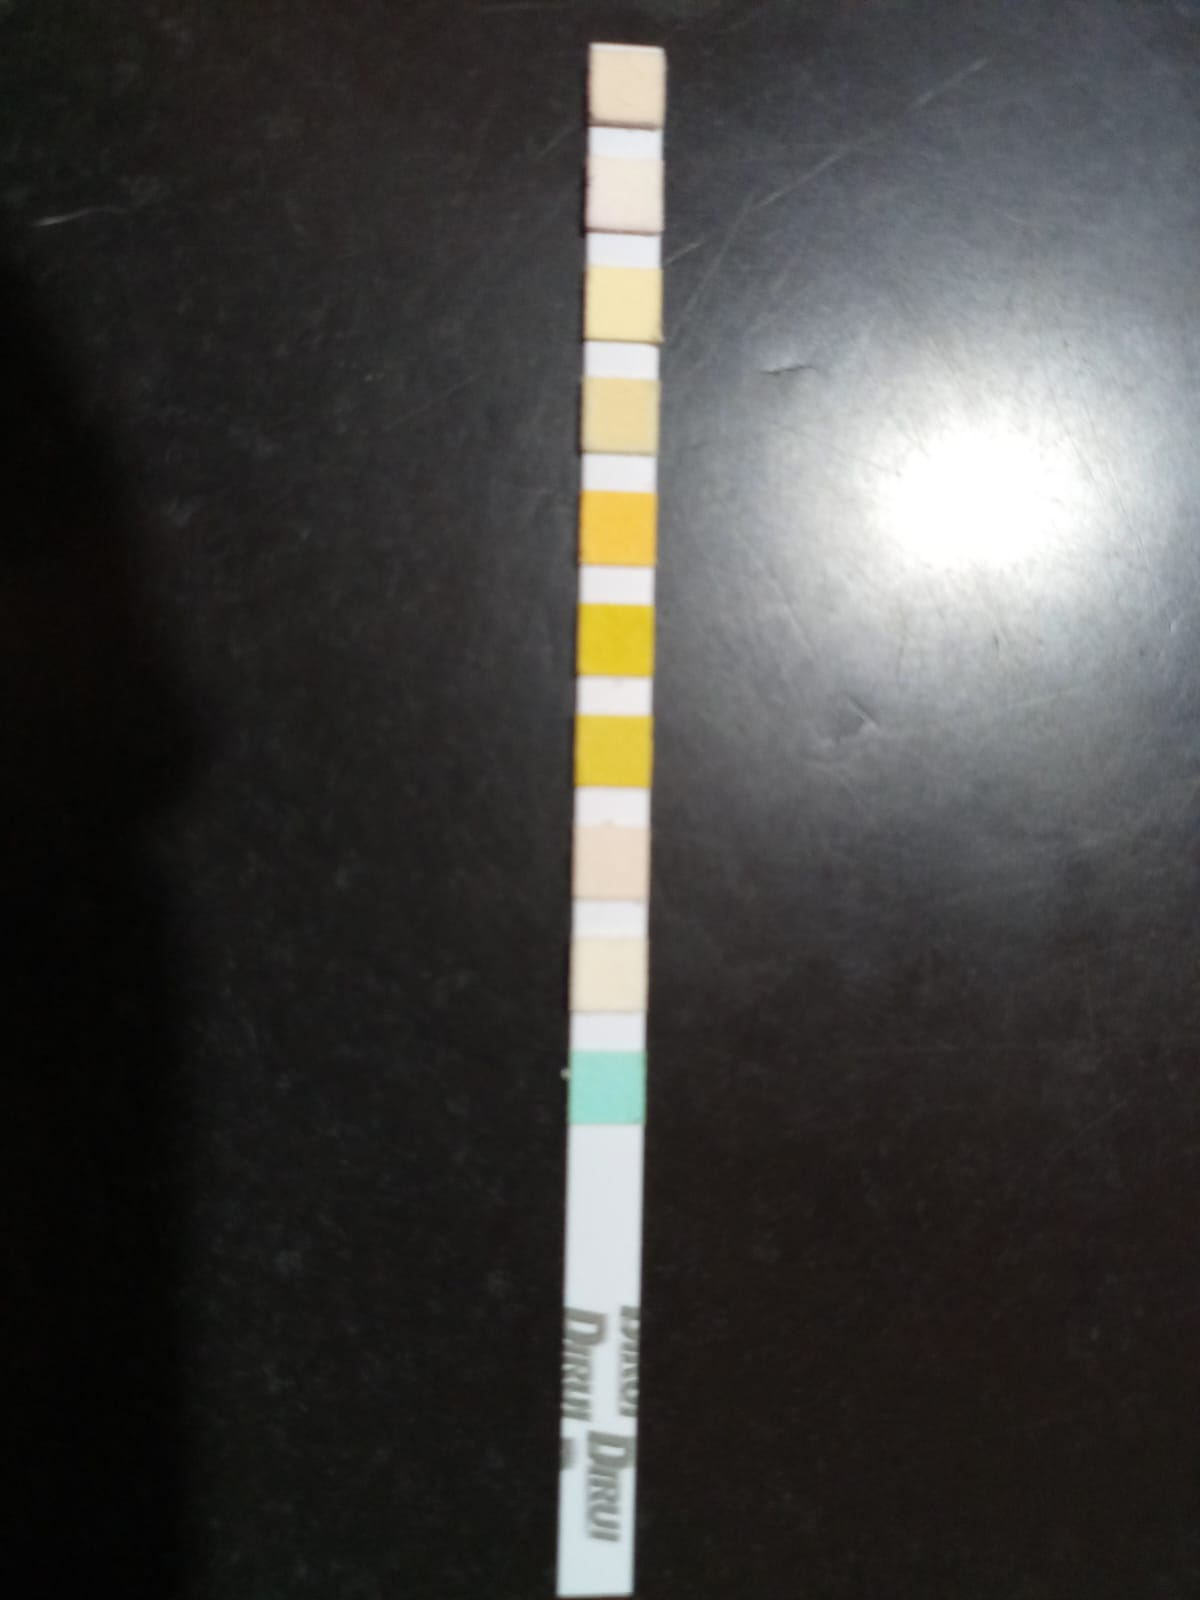color 1: (592, 50, 659, 116)
color 10: (571, 1060, 642, 1119)
color 2: (590, 163, 659, 226)
color 3: (590, 273, 658, 338)
color 4: (586, 380, 655, 450)
color 5: (584, 494, 652, 564)
color 6: (582, 609, 649, 673)
color 7: (576, 719, 648, 785)
color 8: (579, 830, 645, 896)
color 9: (575, 944, 642, 1007)
